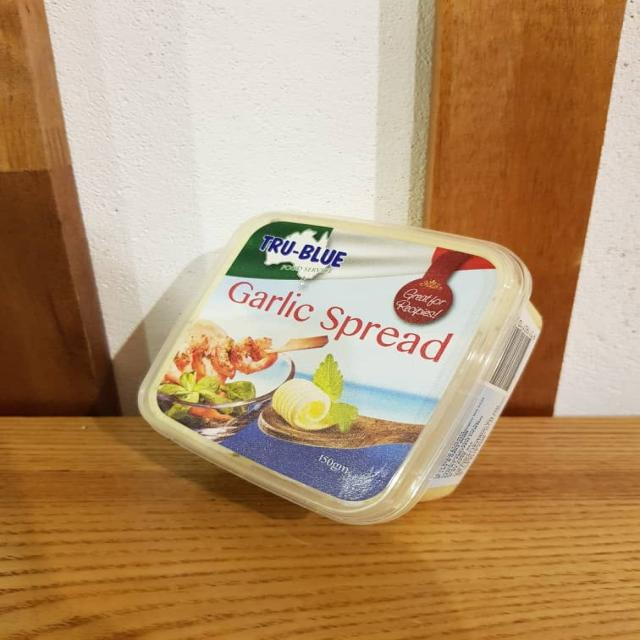plastic: (132, 209, 548, 528)
